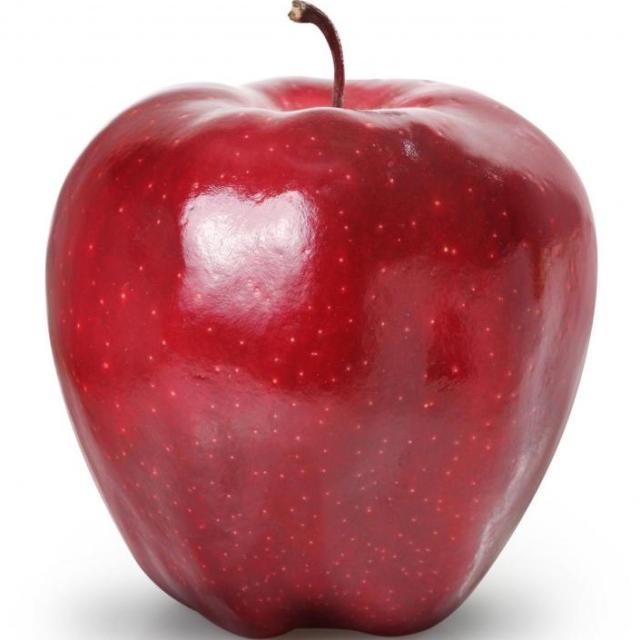Apel: (45, 75, 600, 638)
